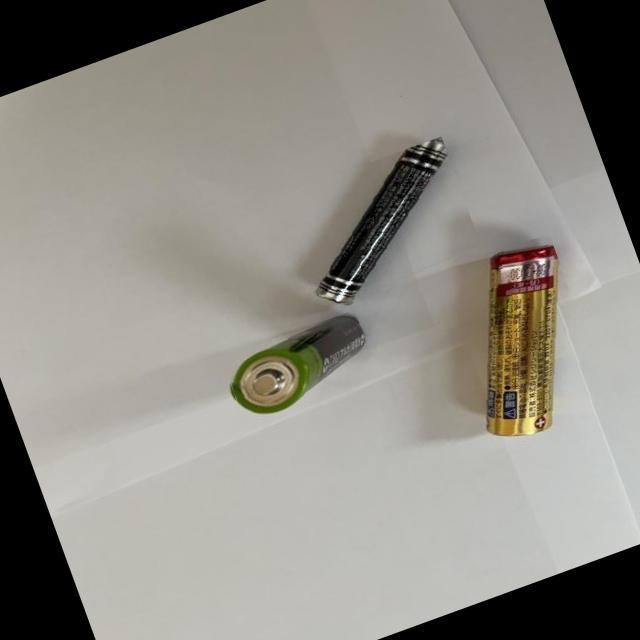Hazard: (428, 232, 612, 451), (276, 136, 484, 314), (219, 308, 378, 424)
